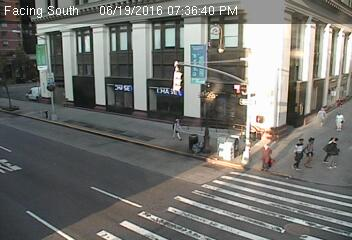neg: (94, 73, 122, 111), (198, 89, 224, 123), (232, 139, 257, 171), (262, 106, 284, 136), (196, 137, 213, 159), (218, 137, 234, 159), (335, 86, 350, 106), (29, 82, 42, 100), (286, 105, 298, 122)
pos: (317, 133, 348, 174), (285, 134, 314, 172), (298, 135, 326, 172), (253, 139, 278, 173), (165, 113, 187, 143), (329, 108, 348, 134), (312, 104, 330, 129)
